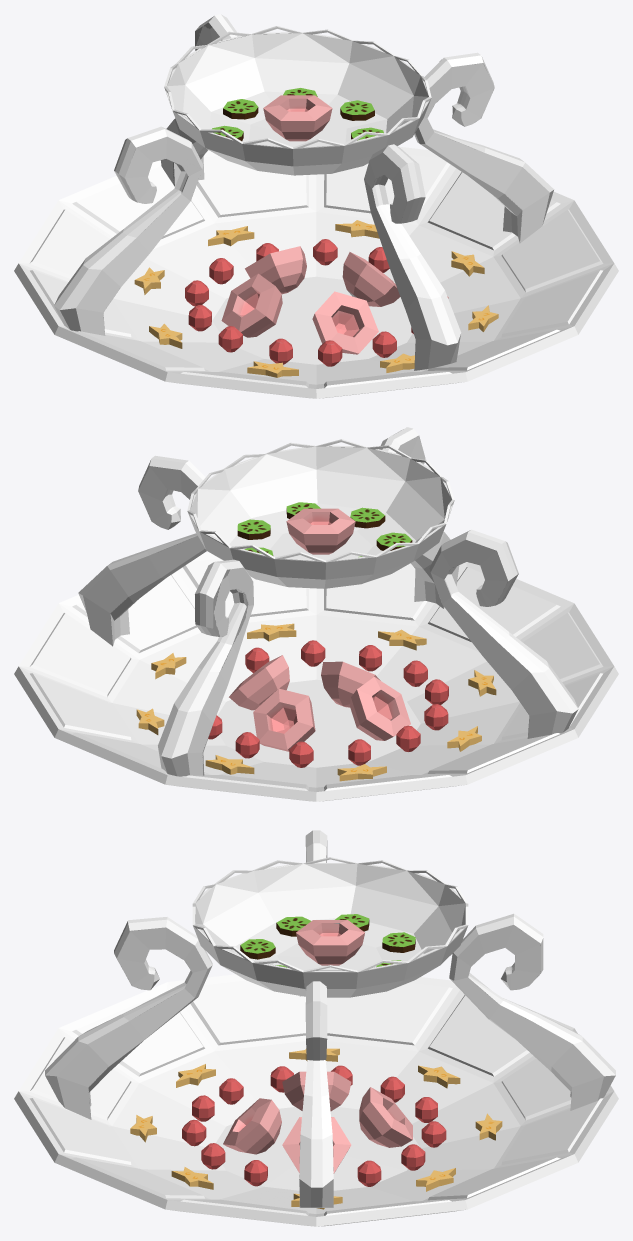
The model's file is BolFruta_.fbx.
3 renders of one model, top to bottom at view 1: azimuth 30°, elevation 25°; view 2: azimuth 150°, elevation 25°; view 3: azimuth 270°, elevation 25°, orthographic.
Visible parts, largest first — view 1: BézierCurve, Sphere.009, Sphere.006, Star.002, Sphere.005, Sphere.001, Sphere.010, Sphere.007, Cylinder.007, Sphere.004; view 2: BézierCurve, Sphere.009, Sphere.006, Star.002, Sphere.004, Sphere.001, Sphere.010, Cylinder.007, Sphere.007, Sphere.005, Sphere.008; view 3: BézierCurve, Sphere.009, Sphere.006, Star.002, Sphere.010, Sphere.004, Sphere.005, Cylinder.007, Sphere.001, Sphere.007.
Part boxes in pixels (x1,y1,x2,y2): BézierCurve: [14, 14, 618, 398]; Sphere.009: [164, 26, 431, 175]; Sphere.006: [185, 239, 448, 364]; Star.002: [134, 220, 498, 377]; Sphere.005: [312, 291, 378, 354]; Sphere.001: [221, 273, 282, 337]; Sphere.010: [263, 95, 332, 141]; Sphere.007: [342, 252, 400, 306]; Cylinder.007: [212, 88, 383, 141]; Sphere.004: [245, 246, 306, 294]; BézierCurve: [14, 427, 618, 801]; Sphere.009: [187, 439, 454, 588]; Sphere.006: [208, 640, 448, 767]; Star.002: [136, 623, 496, 781]; Sphere.004: [253, 688, 315, 751]; Sphere.001: [350, 677, 410, 740]; Sphere.010: [286, 508, 355, 554]; Cylinder.007: [237, 502, 412, 557]; Sphere.007: [229, 655, 289, 710]; Sphere.005: [321, 661, 380, 707]; Sphere.008: [403, 660, 427, 686]; BézierCurve: [14, 830, 618, 1226]; Sphere.009: [192, 857, 468, 997]; Sphere.006: [182, 1065, 446, 1186]; Star.002: [130, 1048, 502, 1209]; Sphere.010: [296, 920, 364, 965]; Sphere.004: [359, 1087, 412, 1147]; Sphere.005: [223, 1098, 281, 1154]; Cylinder.007: [240, 914, 415, 967]; Sphere.001: [282, 1071, 351, 1111]; Sphere.007: [282, 1117, 351, 1173].
Size of the model in its own units: 47.07 by 21.04 by 47.07.
